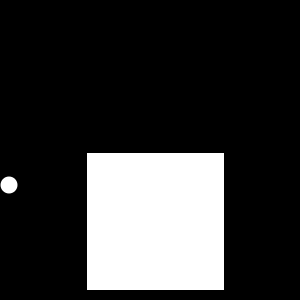circle: (87, 153, 224, 290)
rectangle: (1, 176, 18, 194)
